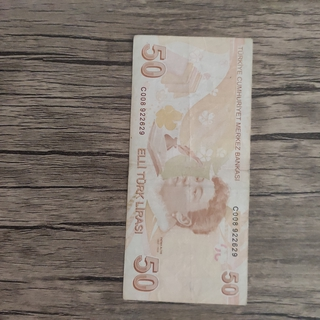50TLBack: (122, 34, 254, 306)
